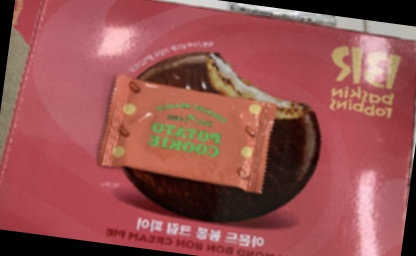pota: (91, 70, 283, 198)
